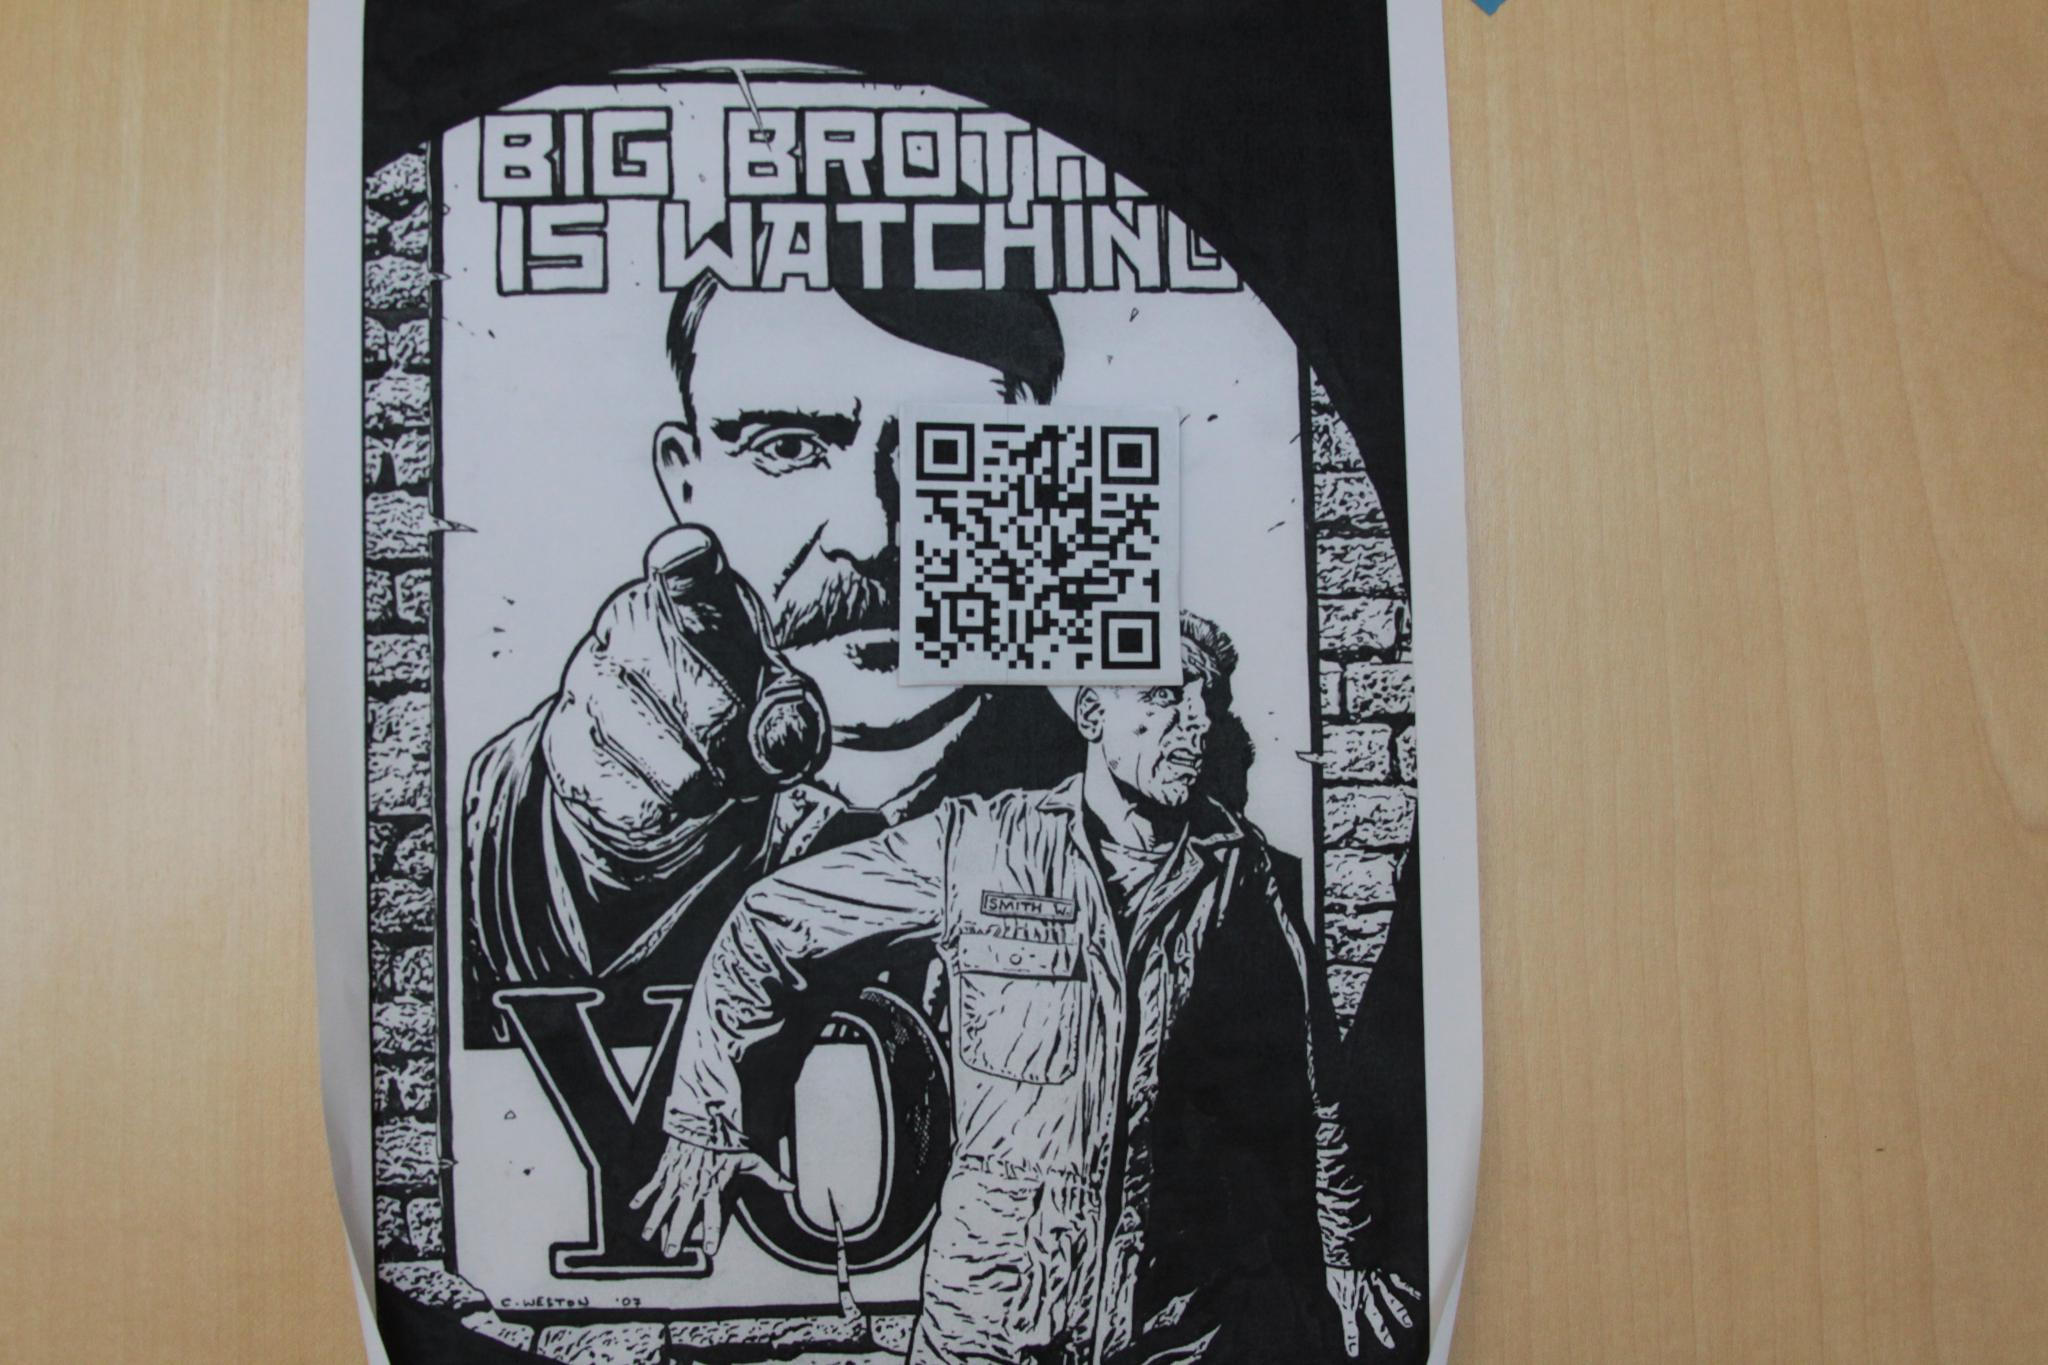Finder pattern: (1093, 417, 1165, 495), (906, 414, 978, 489), (1098, 597, 1168, 673)
